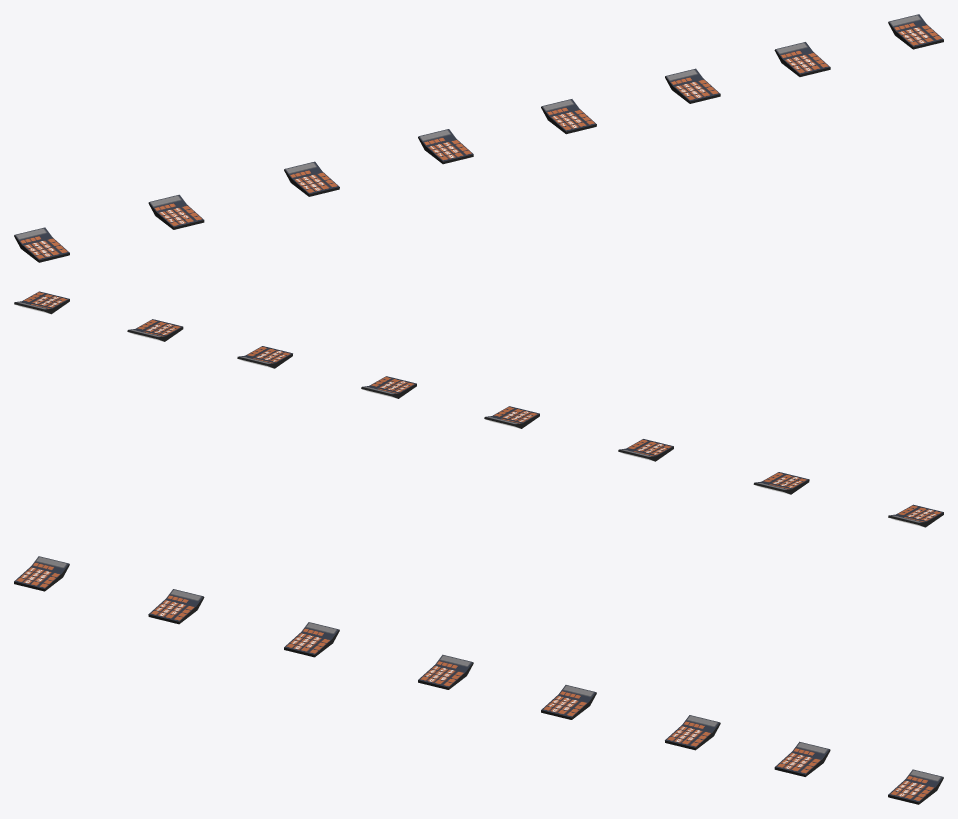
The model's file is Bundle_Calculators.fbx.
3 renders of one model, top to bottom at view 1: azimuth 30°, elevation 25°; view 2: azimuth 150°, elevation 25°; view 3: azimuth 330°, elevation 25°, orthographic.
Parts seen in each view (by area): view 1: Bundle_Calculator_1; view 2: Bundle_Calculator_1; view 3: Bundle_Calculator_1.
Part boxes in pixels (<box>): Bundle_Calculator_1: <box>14,14,943,262</box>; Bundle_Calculator_1: <box>14,291,943,527</box>; Bundle_Calculator_1: <box>14,556,943,804</box>.
Bounding box in the file's own units: 420 × 4.43 × 20.31.
